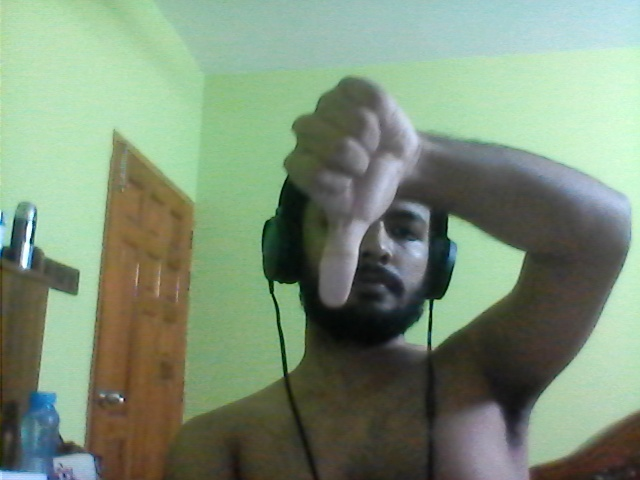No: (255, 64, 428, 325)
